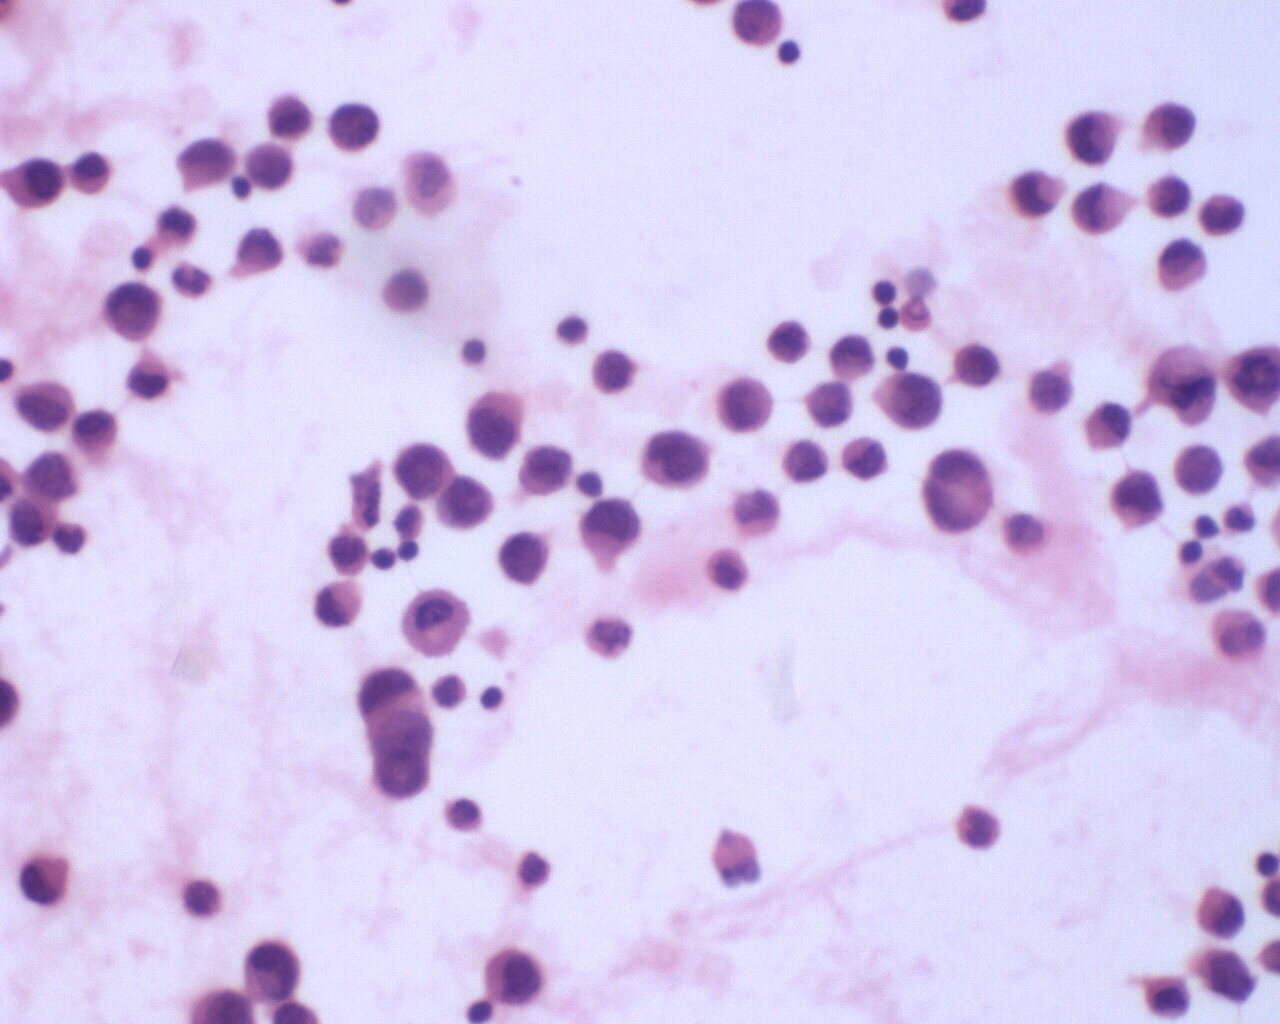ab: (635, 429, 716, 493), (872, 369, 945, 433), (465, 387, 528, 460), (575, 497, 645, 561), (241, 937, 305, 1004), (483, 942, 546, 1009), (100, 282, 167, 345), (1226, 340, 1280, 415), (1109, 465, 1167, 534), (711, 376, 778, 435), (390, 439, 451, 502), (369, 744, 433, 802), (436, 473, 494, 535), (1064, 108, 1121, 170), (498, 527, 553, 590), (516, 442, 575, 501), (1141, 95, 1198, 154), (1156, 237, 1211, 297), (325, 99, 381, 157), (1172, 442, 1227, 501), (6, 493, 59, 551), (245, 139, 297, 195), (778, 435, 833, 488), (729, 1, 789, 48), (836, 434, 890, 484), (805, 378, 857, 429), (952, 340, 1002, 391), (765, 316, 816, 365), (1198, 190, 1246, 241), (1145, 173, 1193, 223), (590, 349, 639, 397), (327, 529, 371, 576)
lymph: (869, 275, 900, 304), (776, 37, 806, 66), (1178, 537, 1205, 568), (478, 681, 507, 709)
